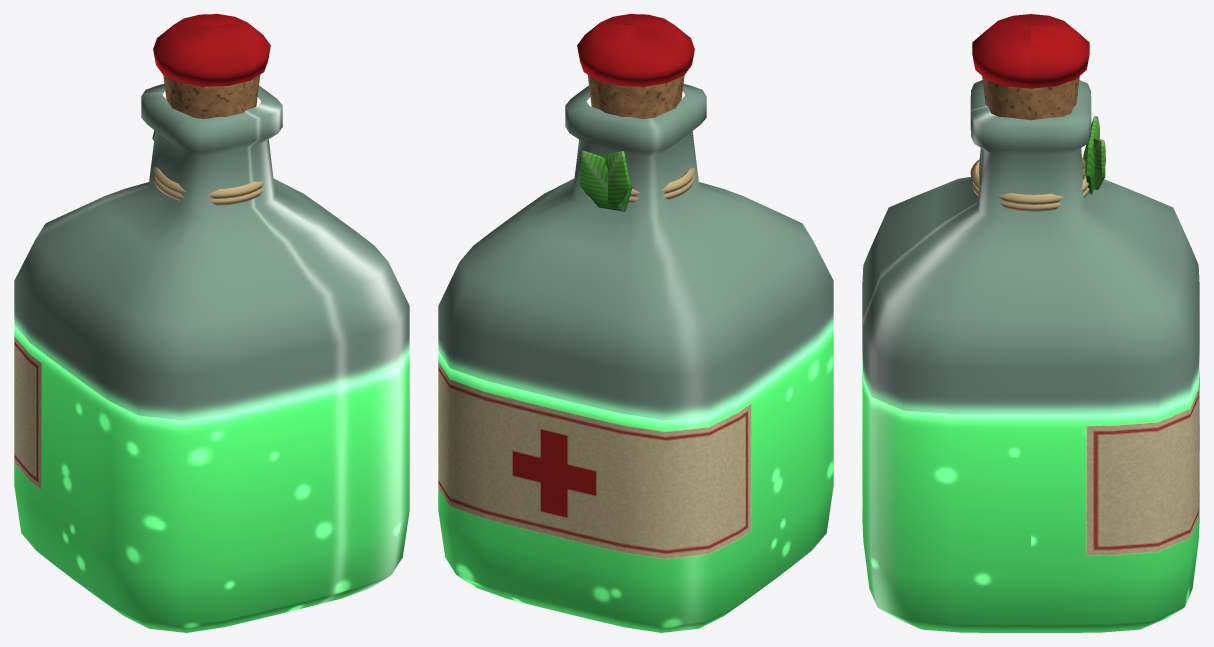
Rendered from HealersDraught.glb.
3 renders of one model, left to right at view 1: azimuth 30°, elevation 25°; view 2: azimuth 150°, elevation 25°; view 3: azimuth 270°, elevation 25°, orthographic.
Parts seen in each view (by area): view 1: HealersDraught; view 2: HealersDraught; view 3: HealersDraught.
Part boxes in pixels (x1,y1,x2,y2): HealersDraught: (14, 14, 409, 632); HealersDraught: (438, 14, 833, 632); HealersDraught: (862, 14, 1199, 632).
Bounding box in the file's own units: 0.56 × 1 × 0.56.
Materials: 1 (1 with a texture image).
